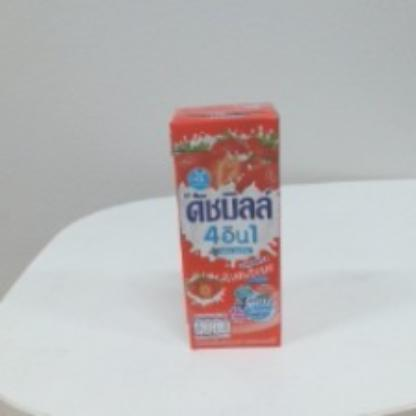Others: (170, 105, 281, 348)
